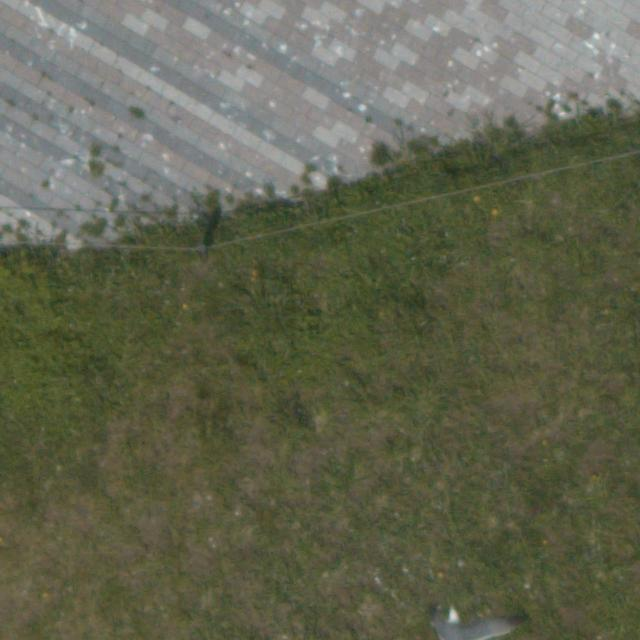F: (437, 602, 525, 638)
